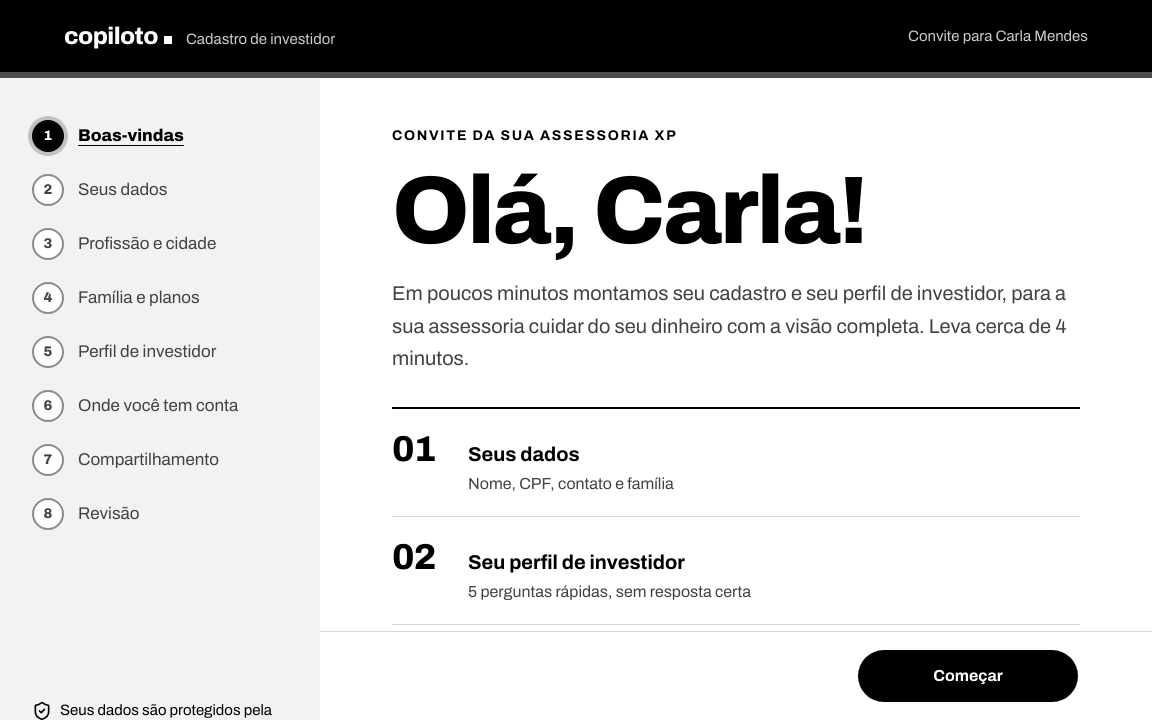
it: WizardOnboarding › voltar mantém o que foi preenchido
The width and height of the screenshot is (1152, 720).
Click the button "Começar": (968, 676) [856,648,1080,704]
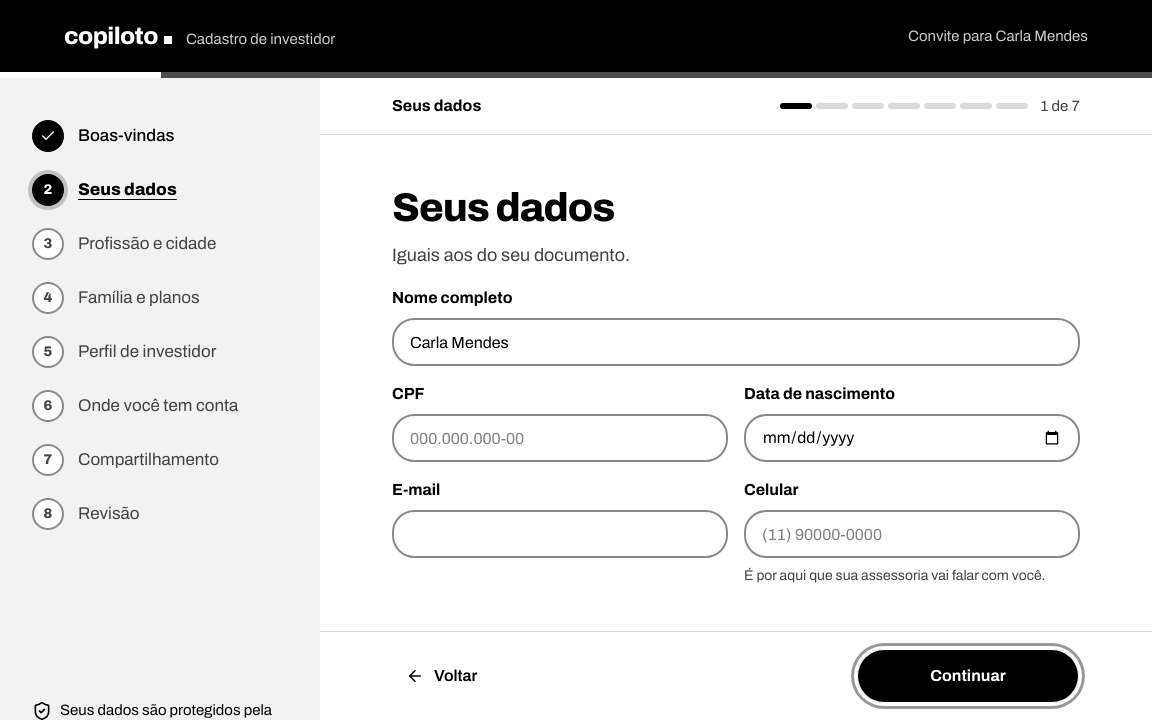
In the field labelled "CPF": (560, 438) [392,414,728,462], type "123"
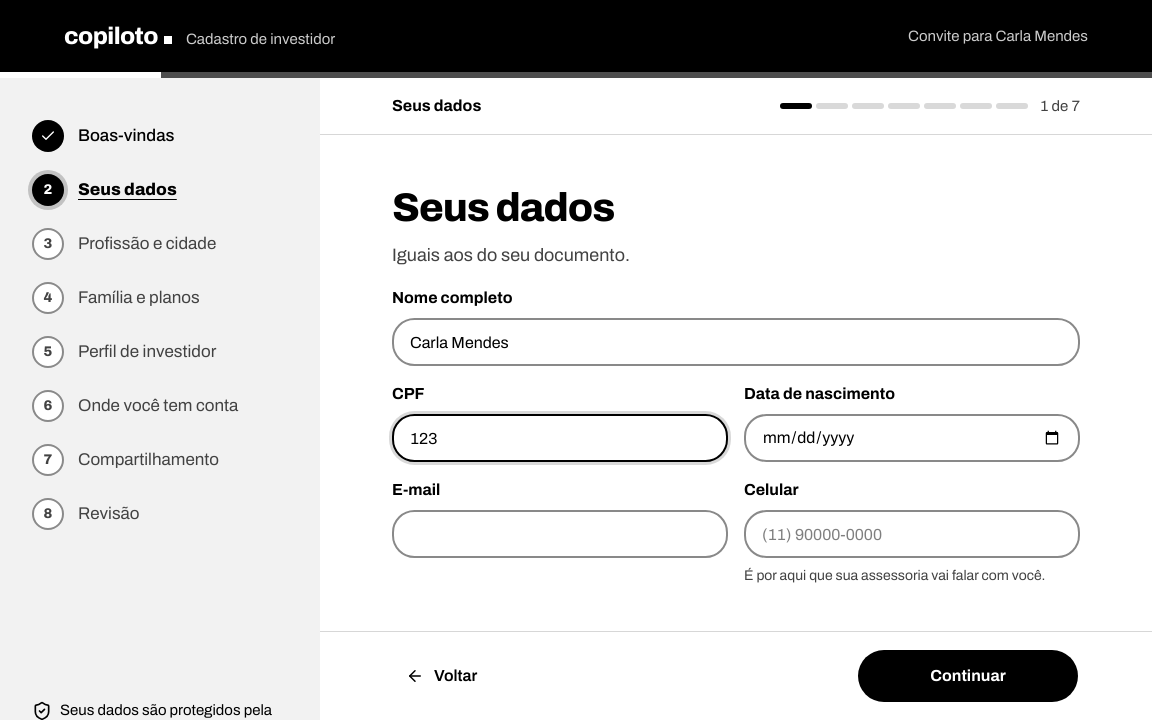
Click the button "Voltar": (442, 676) [392,648,491,704]
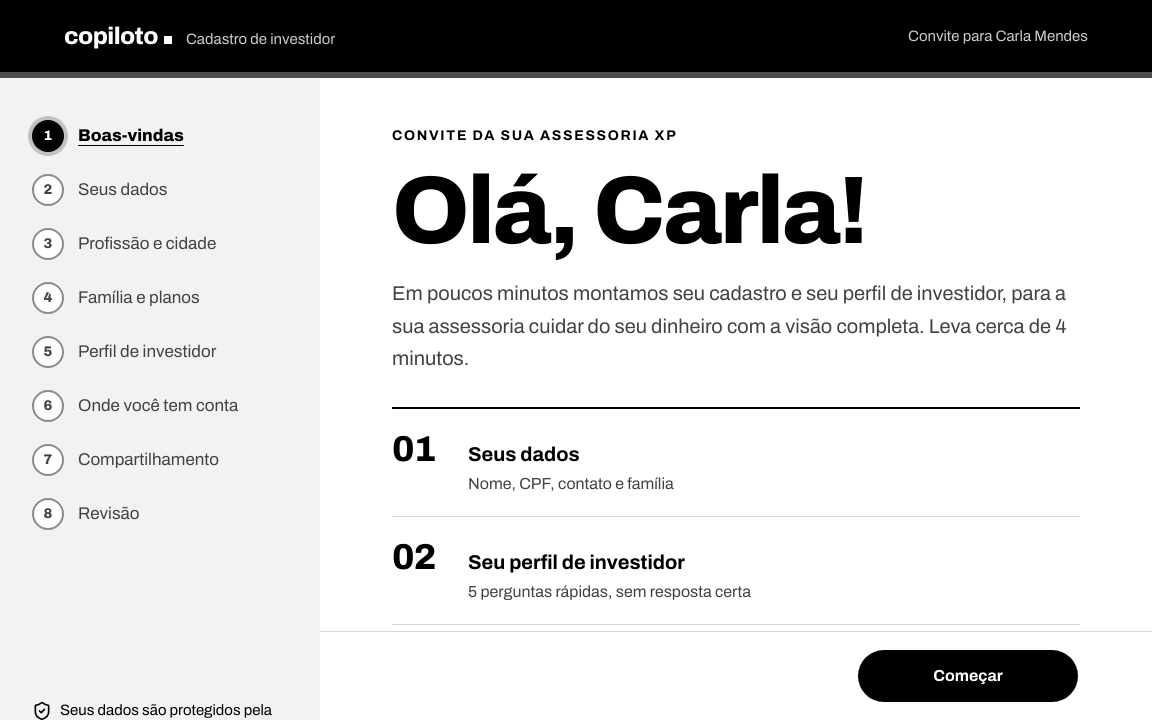
Click the button "Começar": (968, 676) [856,648,1080,704]
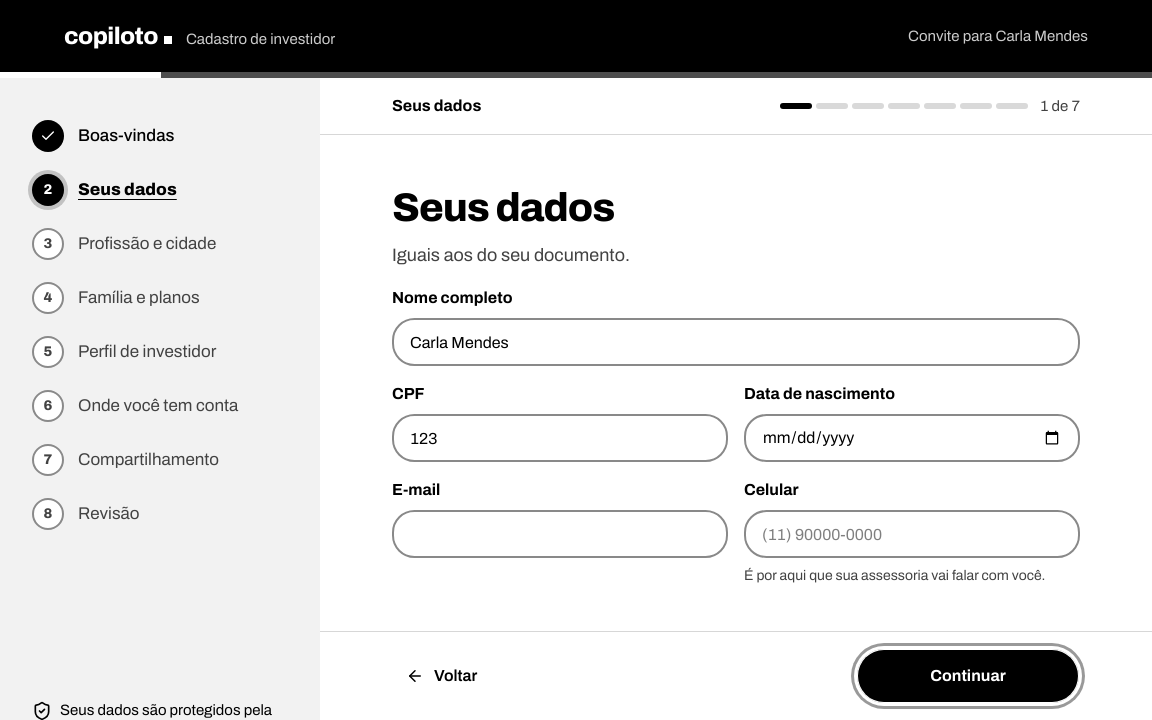
Expected: the field labelled "CPF" holds "123", [392,414,728,462]
